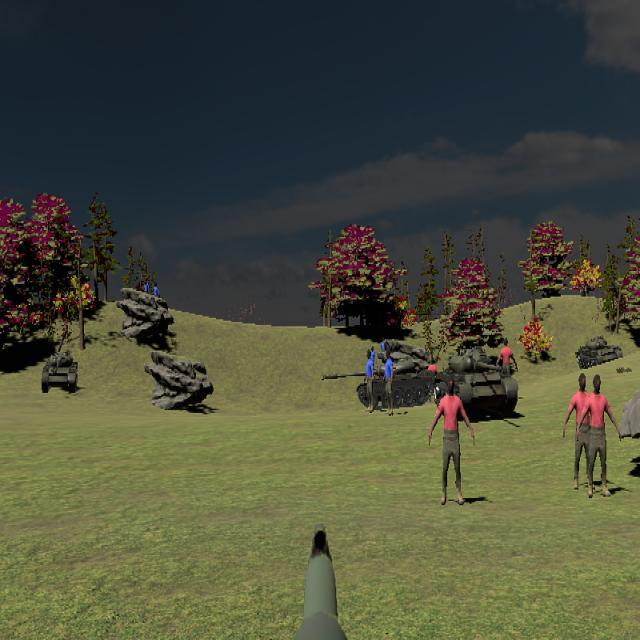Human: (428, 375, 475, 506), (576, 374, 622, 497), (562, 373, 603, 492), (382, 348, 394, 417), (365, 348, 375, 413)
Tank: (321, 356, 438, 412), (321, 357, 437, 412), (432, 347, 518, 419), (41, 349, 79, 394), (575, 335, 623, 369)
